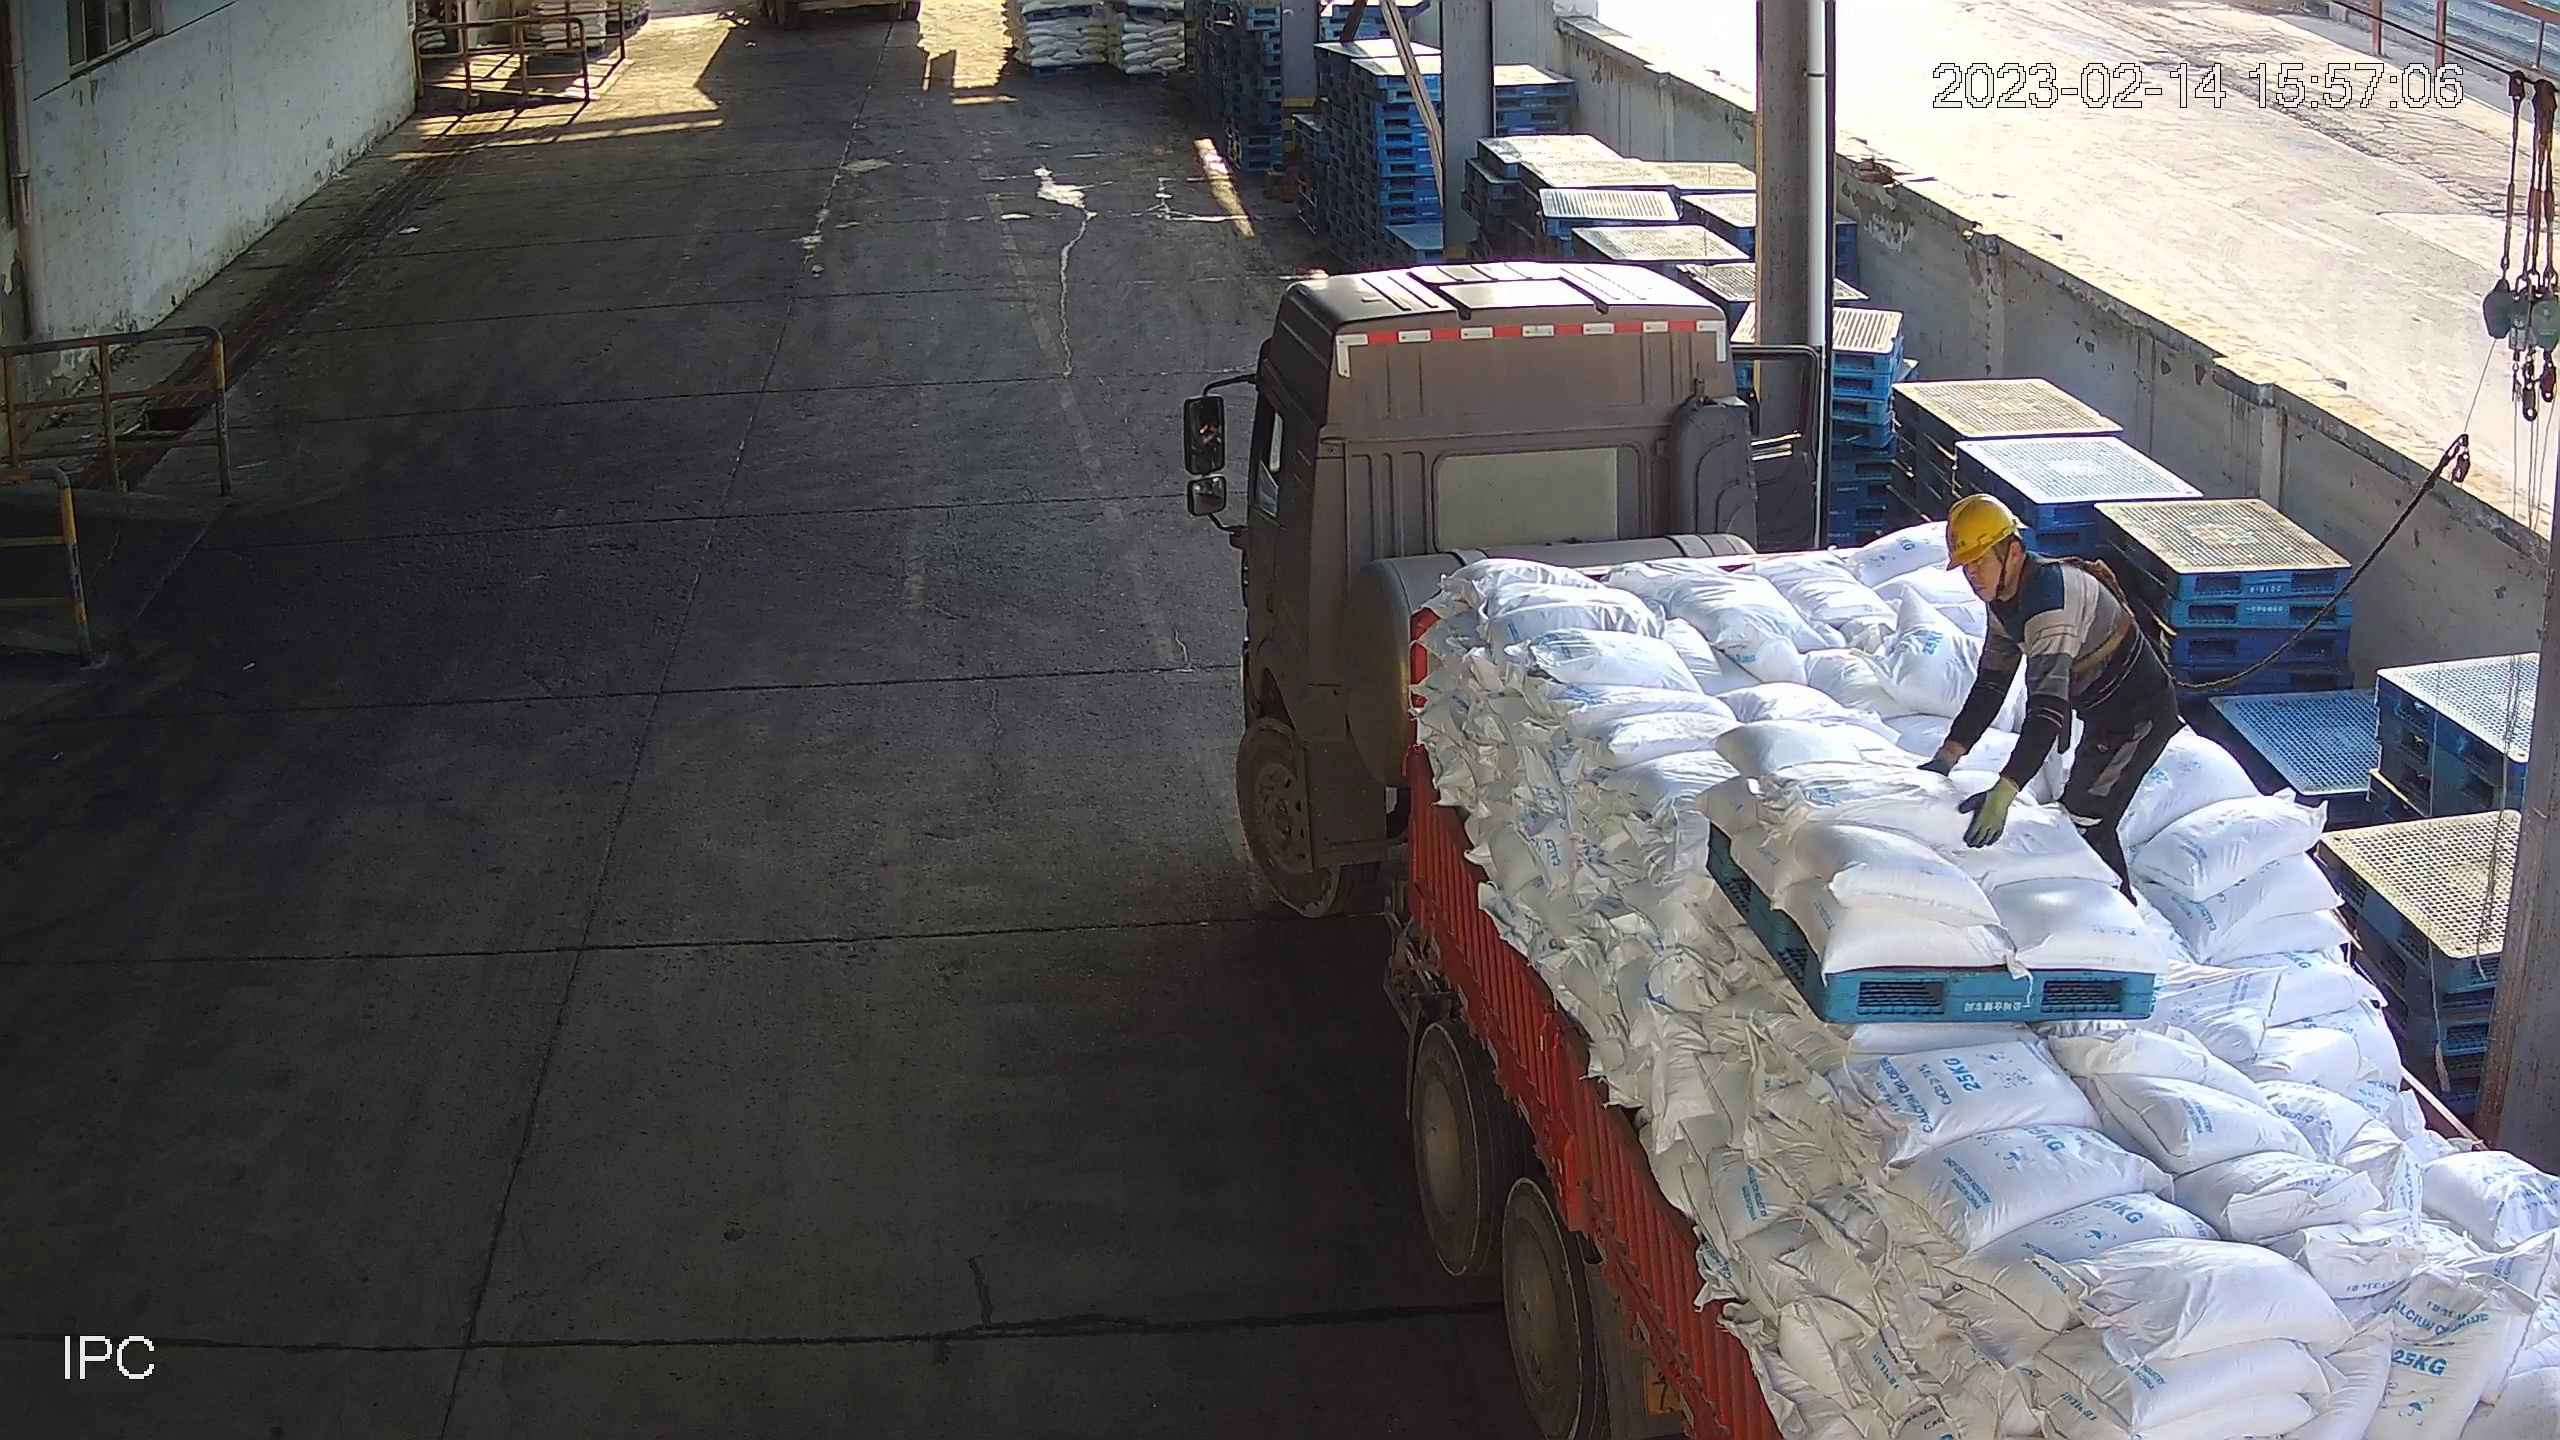belt: (2041, 554, 2141, 672)
head: (1945, 493, 2110, 636)
helmet: (1944, 492, 2022, 571)
people: (1922, 491, 2187, 905)
truck: (1229, 257, 2560, 1440)
